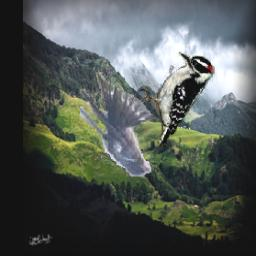Swallow: (79, 69, 153, 177)
Woodpecker: (136, 52, 215, 147)
